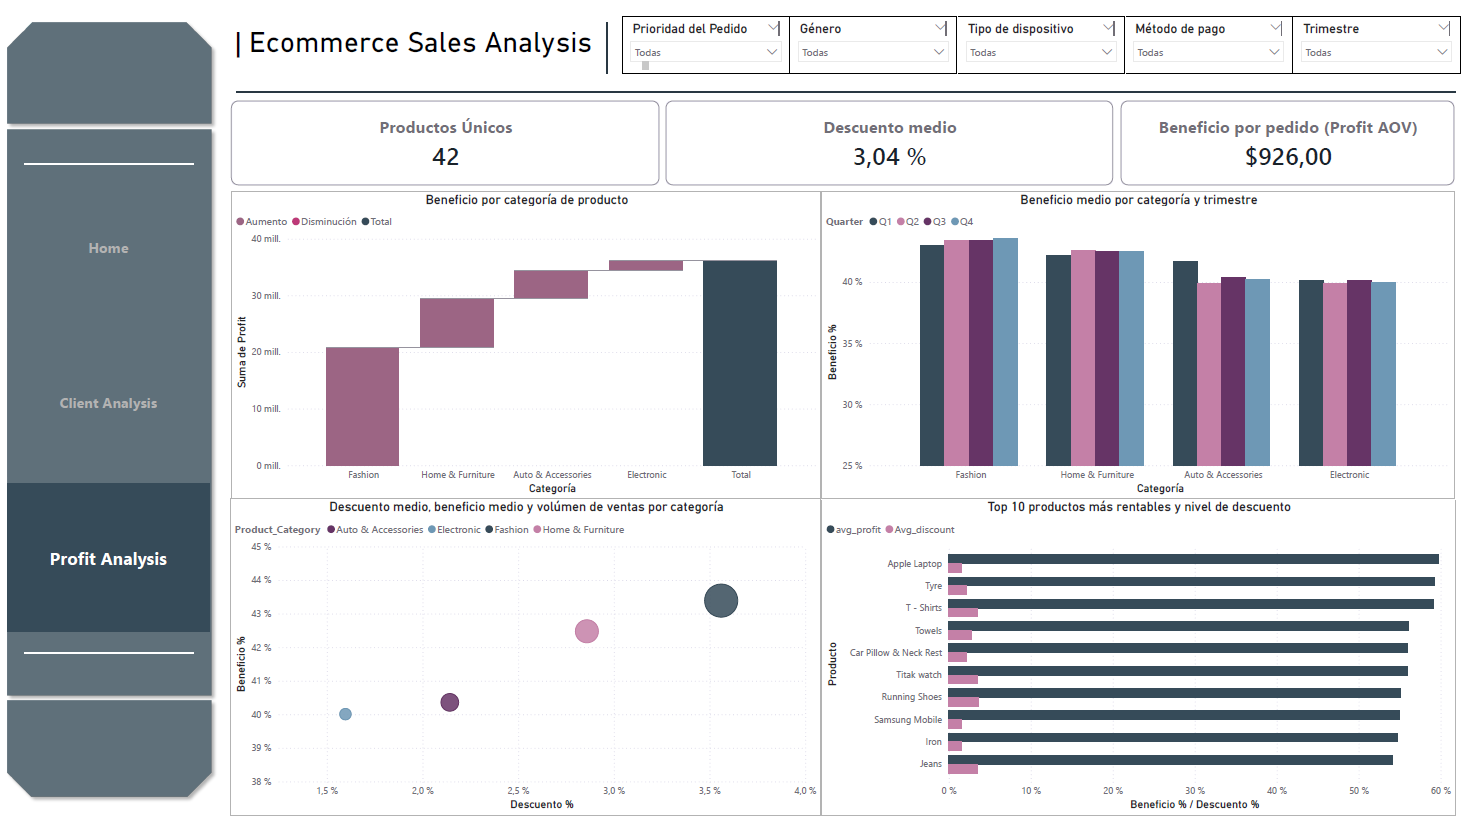

This screenshot's page, from the dashboard's own definition file:
{"tool":"powerbi","page":{"name":"Profit Analysis","canvas":[1920,1080],"ordinal":3},"visuals":[{"type":"shape","box":[0,171.6,284.6,759.5],"z":0},{"type":"card","fields":{"Values":["ecomm.Avg_discount"]},"box":[1363.3,133,548,150.3],"z":1000},{"type":"waterfallChart","title":"Profit by Product Category","fields":{"Y":["Sum(ecomm.Profit)"],"Category":["ecomm.Product_Category"]},"box":[301.5,260.1,564.1,405],"z":2000},{"type":"scatterChart","title":"Average Discount, Average Profit, and Sales Volume by Category","fields":{"X":["ecomm.Avg_discount"],"Y":["ecomm.avg_profit"],"Series":["ecomm.Product_Category"],"Size":["Sum(ecomm.Sales)"]},"box":[301.5,663.7,797,415.3],"z":3000},{"type":"clusteredBarChart","title":"Top 10 Most Profitable Products and Discount Level","fields":{"Category":["ecomm.Product"],"Y":["ecomm.avg_profit","ecomm.Avg_discount"]},"box":[1098.4,663.7,807.3,415.3],"z":4000},{"type":"clusteredColumnChart","title":"Average Profit by Category and Quarter","fields":{"Category":["ecomm.Product_Category"],"Y":["ecomm.avg_profit"],"Series":["Calendar.Quarter"]},"box":[1343,258.8,562.8,405],"z":5000},{"type":"slicer","fields":{"Values":["Calendar.Quarter"]},"box":[1691.8,33.3,220,74.5],"z":6000},{"type":"slicer","fields":{"Values":["ecomm.Order_Priority"]},"box":[814,33.3,220,74.5],"z":7000},{"type":"slicer","fields":{"Values":["ecomm.Payment_method"]},"box":[1472.4,33.3,219.5,74.5],"z":8000},{"type":"slicer","fields":{"Values":["ecomm.Device_Type"]},"box":[1252.9,33.3,220,74.5],"z":9000},{"type":"textbox","title":"| Ecommerce Sales Analysis","box":[301.9,43.9,552,63.8],"z":10000},{"type":"shape","box":[308.6,122.4,1596.1,20],"z":11000},{"type":"slicer","fields":{"Values":["ecomm.Gender"]},"box":[1033.4,33.3,220,74.5],"z":12000},{"type":"shape","box":[779.4,41.2,30.6,66.5],"z":13000},{"type":"shape","box":[30.6,214.1,222.1,22.6],"z":14000},{"type":"shape","box":[30.6,855.2,222.1,22.6],"z":15000},{"type":"pageNavigator","box":[9.3,239.4,264.7,599.9],"z":16000},{"type":"shape","box":[0,31.9,284.6,150.3],"z":17000},{"type":"shape","box":[0,920.4,284.6,143.6],"z":18000},{"type":"cardVisual","fields":{"Data":["ecomm.Products_unique"]},"box":[284.6,126.4,595.9,145],"z":19000},{"type":"cardVisual","fields":{"Data":["ecomm.Avg_discount"]},"box":[853.9,126.4,619.8,145],"z":20000},{"type":"cardVisual","fields":{"Data":["ecomm.Avg_Order_Profit"]},"box":[1449.8,126.4,470.8,145],"z":21000},{"type":"clusteredColumnChart","title":"Average Profit and Margin by Discount Range","fields":{"Category":["ecomm.Discount Segment"],"Y":["ecomm.avg_profit","ecomm.Margen % Categoría"]},"box":[865.6,260.1,477.4,403.7],"z":22000}]}

Visuals, with their boxes in screenshot pixels (x1, y1, x2, y2), scaled from the page's 1920x1080 canvas onto the 1469x825 screenshot:
shape: bbox(0, 131, 218, 711)
card - ecomm.Avg_discount: bbox(1043, 102, 1462, 216)
"Profit by Product Category" waterfallChart: bbox(231, 199, 662, 508)
"Average Discount, Average Profit, and Sales Volume by Category" scatterChart: bbox(231, 507, 840, 824)
"Top 10 Most Profitable Products and Discount Level" clusteredBarChart: bbox(840, 507, 1458, 824)
"Average Profit by Category and Quarter" clusteredColumnChart: bbox(1028, 198, 1458, 507)
slicer - Calendar.Quarter: bbox(1294, 25, 1463, 82)
slicer - ecomm.Order_Priority: bbox(623, 25, 791, 82)
slicer - ecomm.Payment_method: bbox(1127, 25, 1294, 82)
slicer - ecomm.Device_Type: bbox(959, 25, 1127, 82)
"| Ecommerce Sales Analysis" textbox: bbox(231, 34, 653, 82)
shape: bbox(236, 94, 1457, 109)
slicer - ecomm.Gender: bbox(791, 25, 959, 82)
shape: bbox(596, 31, 620, 82)
shape: bbox(23, 164, 193, 181)
shape: bbox(23, 653, 193, 671)
pageNavigator: bbox(7, 183, 210, 641)
shape: bbox(0, 24, 218, 139)
shape: bbox(0, 703, 218, 813)
cardVisual - ecomm.Products_unique: bbox(218, 97, 674, 207)
cardVisual - ecomm.Avg_discount: bbox(653, 97, 1128, 207)
cardVisual - ecomm.Avg_Order_Profit: bbox(1109, 97, 1468, 207)
"Average Profit and Margin by Discount Range" clusteredColumnChart: bbox(662, 199, 1028, 507)
